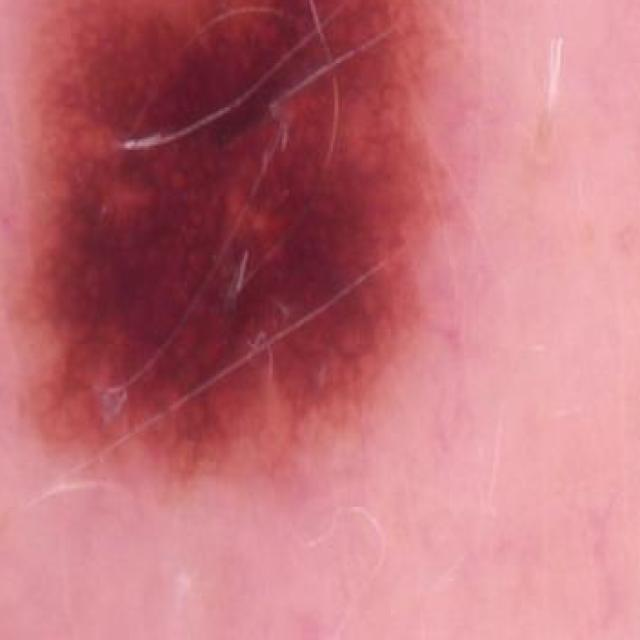NV: (0, 0, 460, 549)
